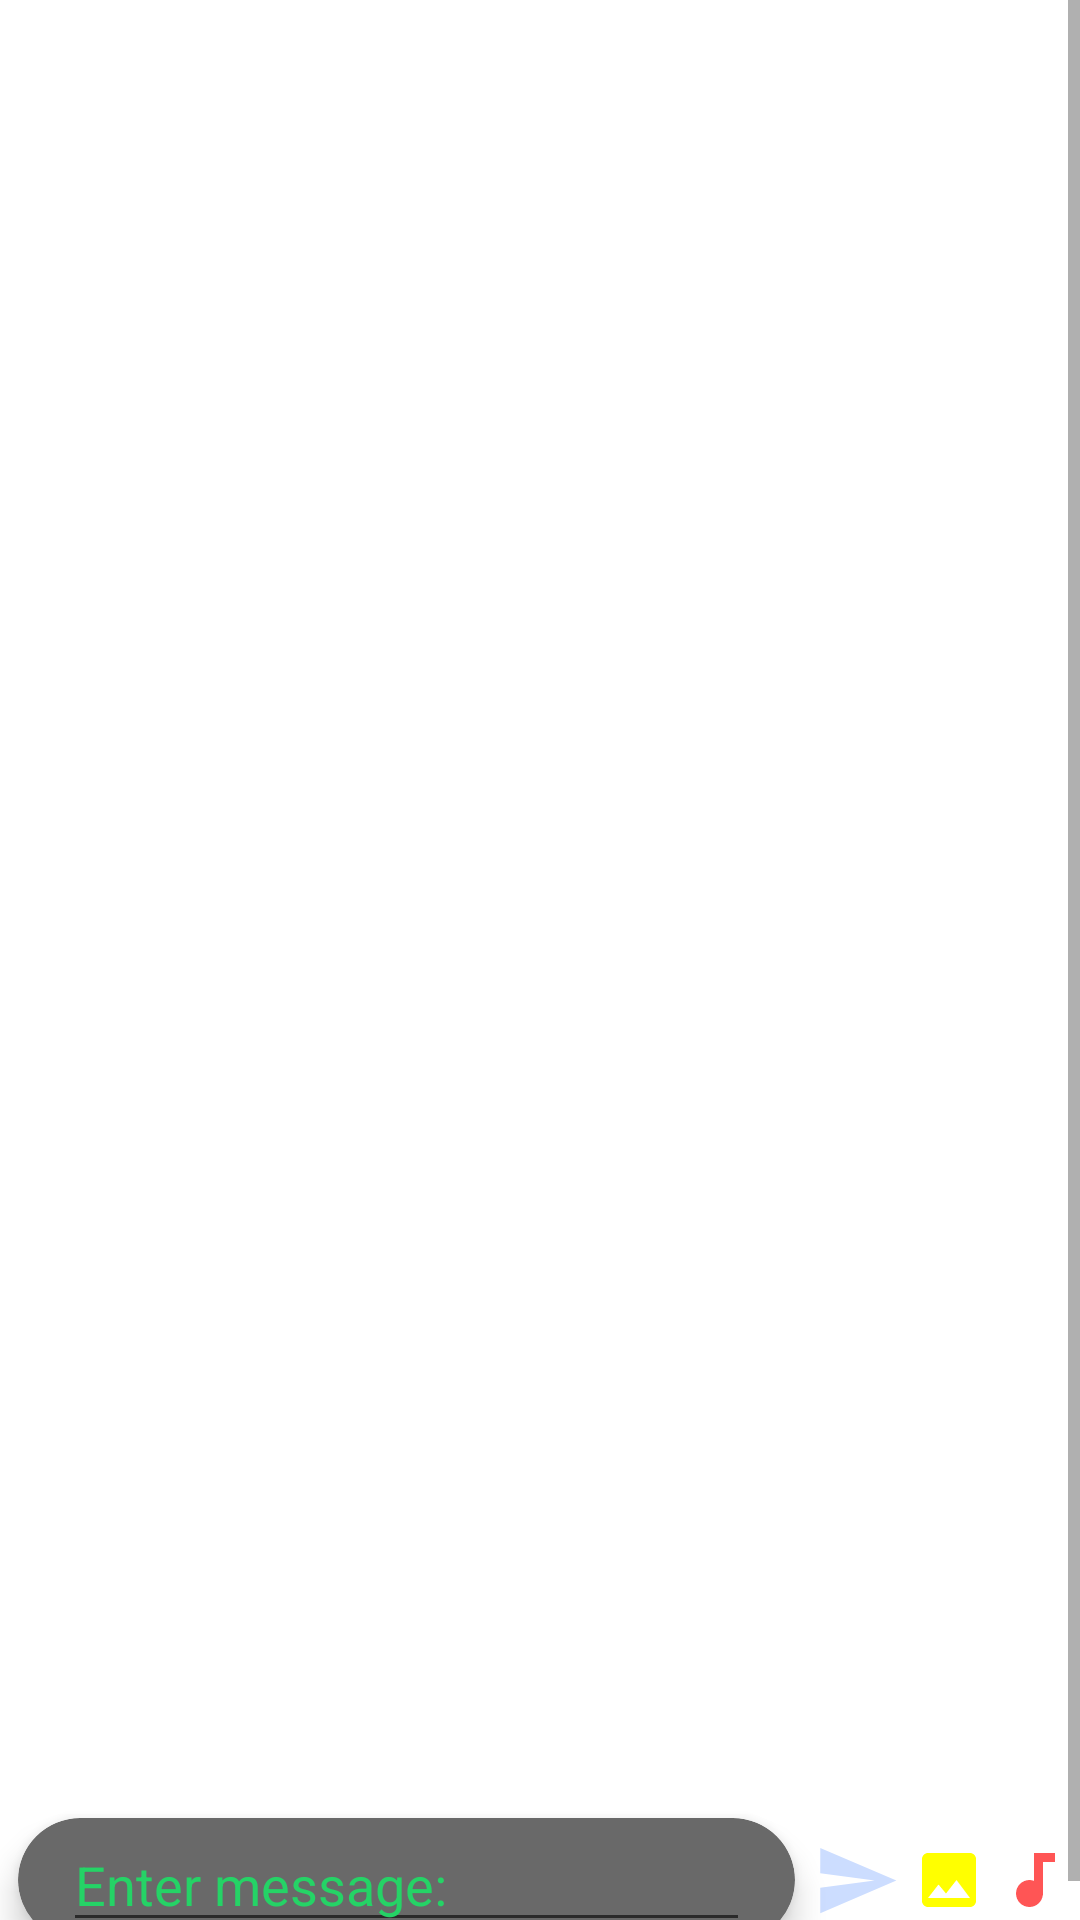

Where to tap for icons on this 1080x1920 app screen, as point (x, y):
audiotrack: point (1035, 1880)
